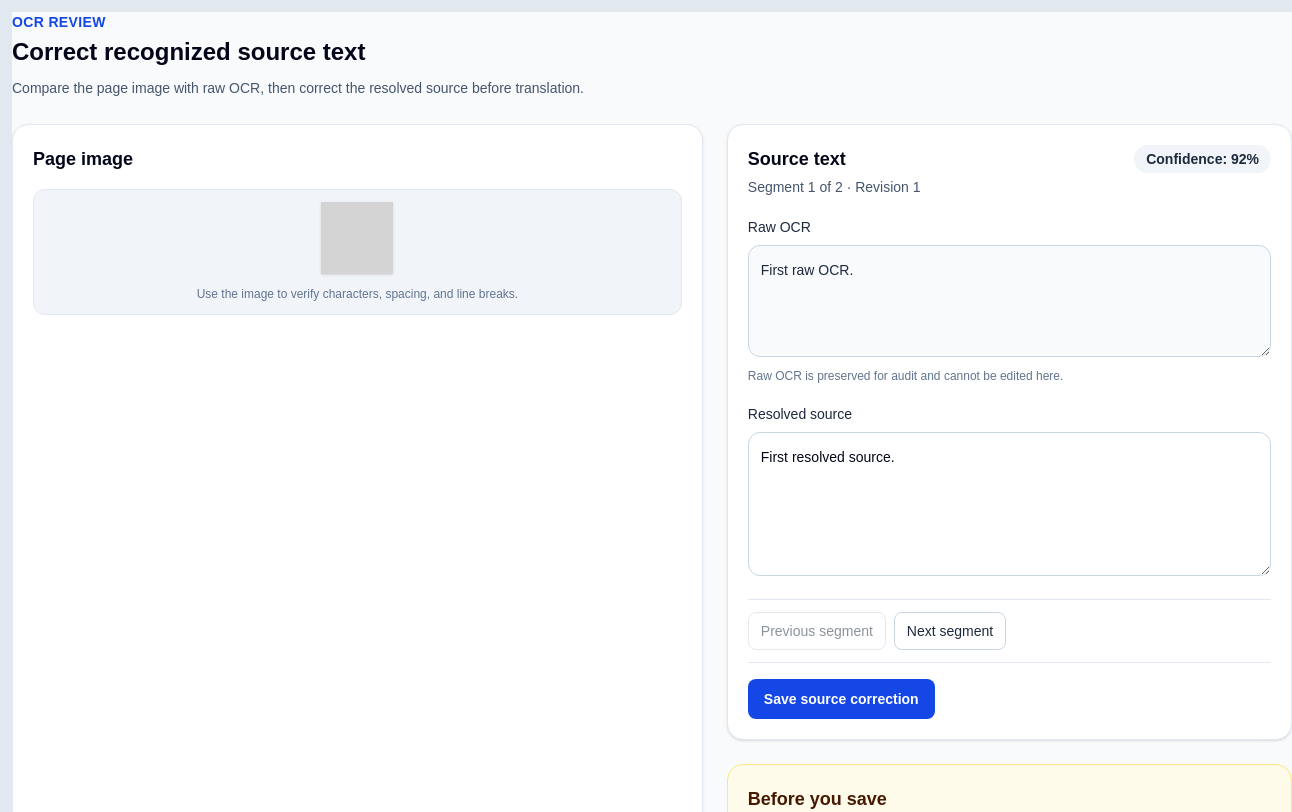
Test: OCRReview › navigates between OCR segments
This screenshot has width=1292, height=812.
Step 1. Click the button "Next segment" → (950, 631), box top-left (894, 612), bottom-right (1006, 650)
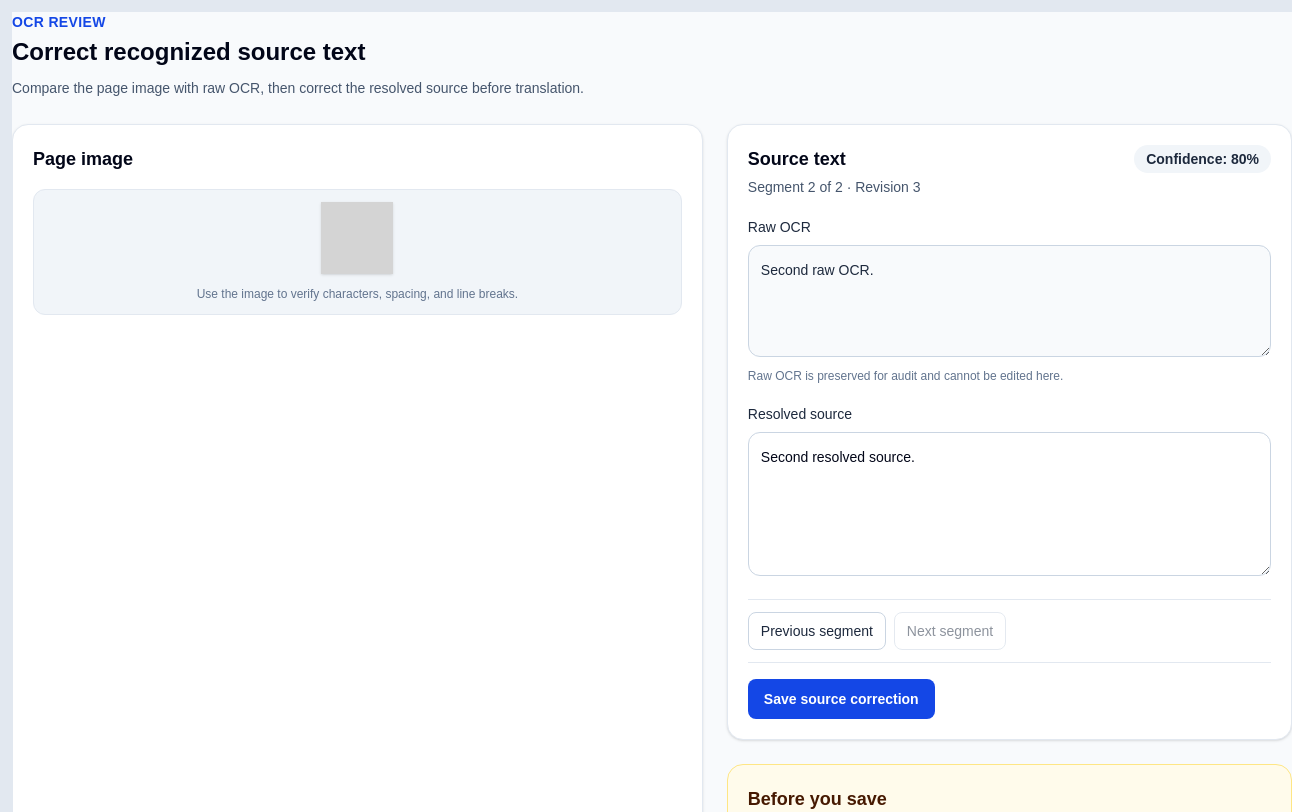
Now the text box labelled "Resolved source" holds "Second resolved source.", box top-left (748, 432), bottom-right (1271, 576)
Step 2. Click the button "Previous segment" → (817, 631), box top-left (748, 612), bottom-right (886, 650)
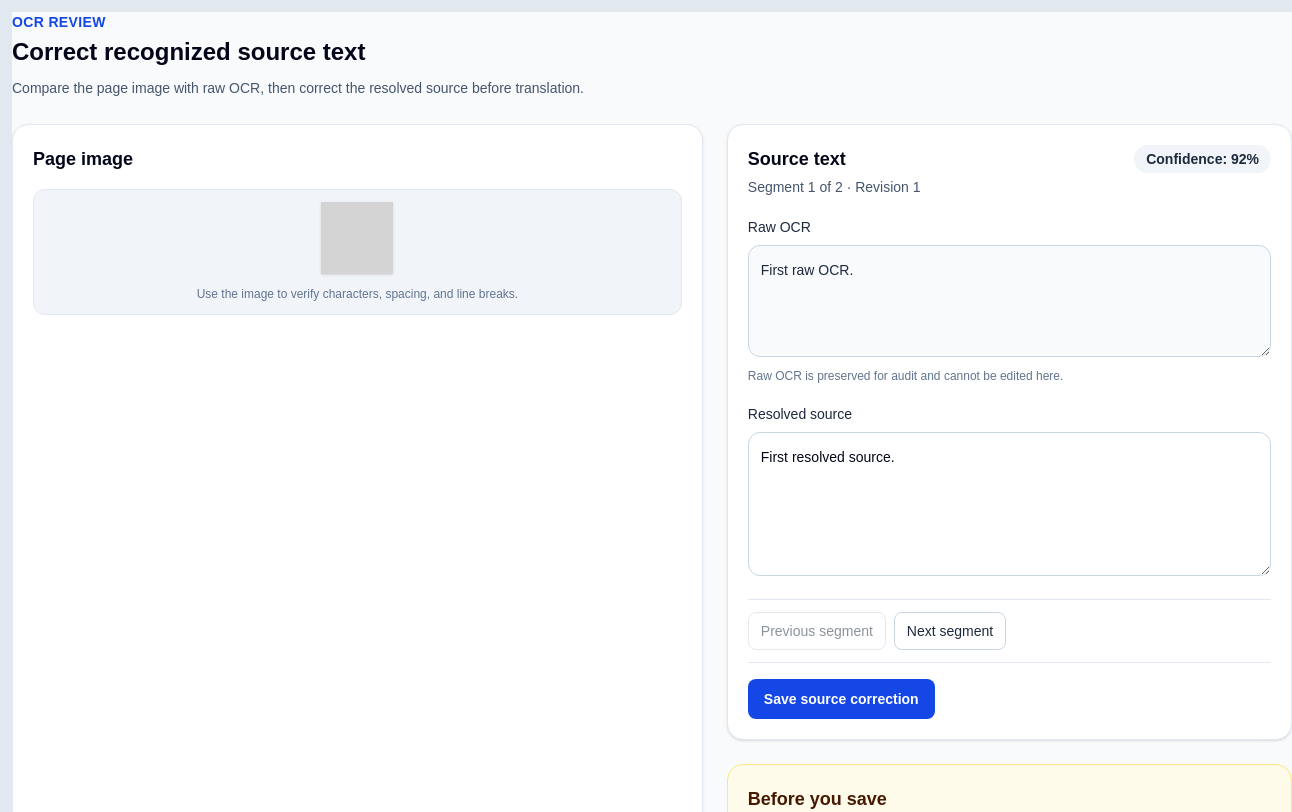
Now the text box labelled "Resolved source" holds "First resolved source.", box top-left (748, 432), bottom-right (1271, 576)
